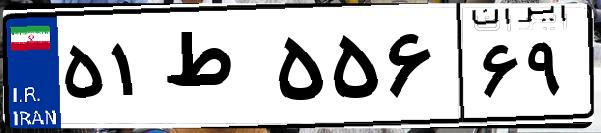1: (110, 28, 158, 98)
5: (270, 28, 330, 110), (330, 28, 385, 110), (57, 26, 110, 100)
6: (385, 28, 445, 110), (475, 38, 525, 113)
9: (525, 38, 570, 115)
ط: (158, 20, 270, 120)
